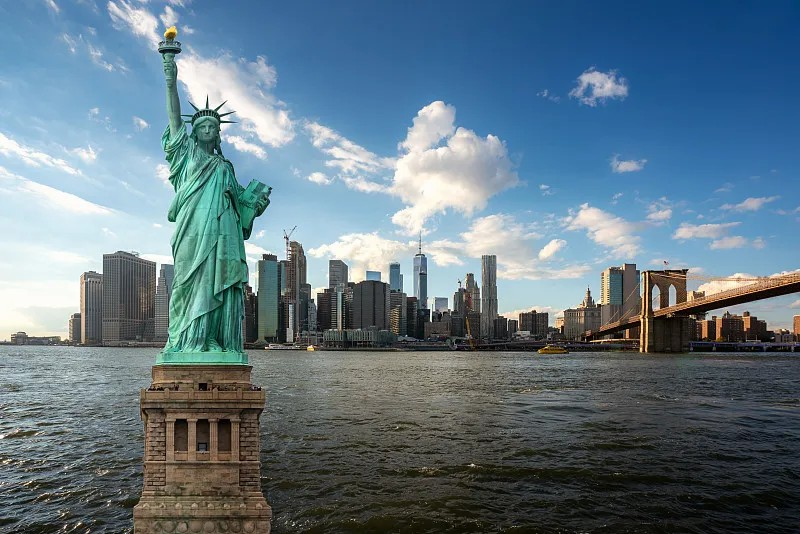SL: (133, 24, 272, 534)
